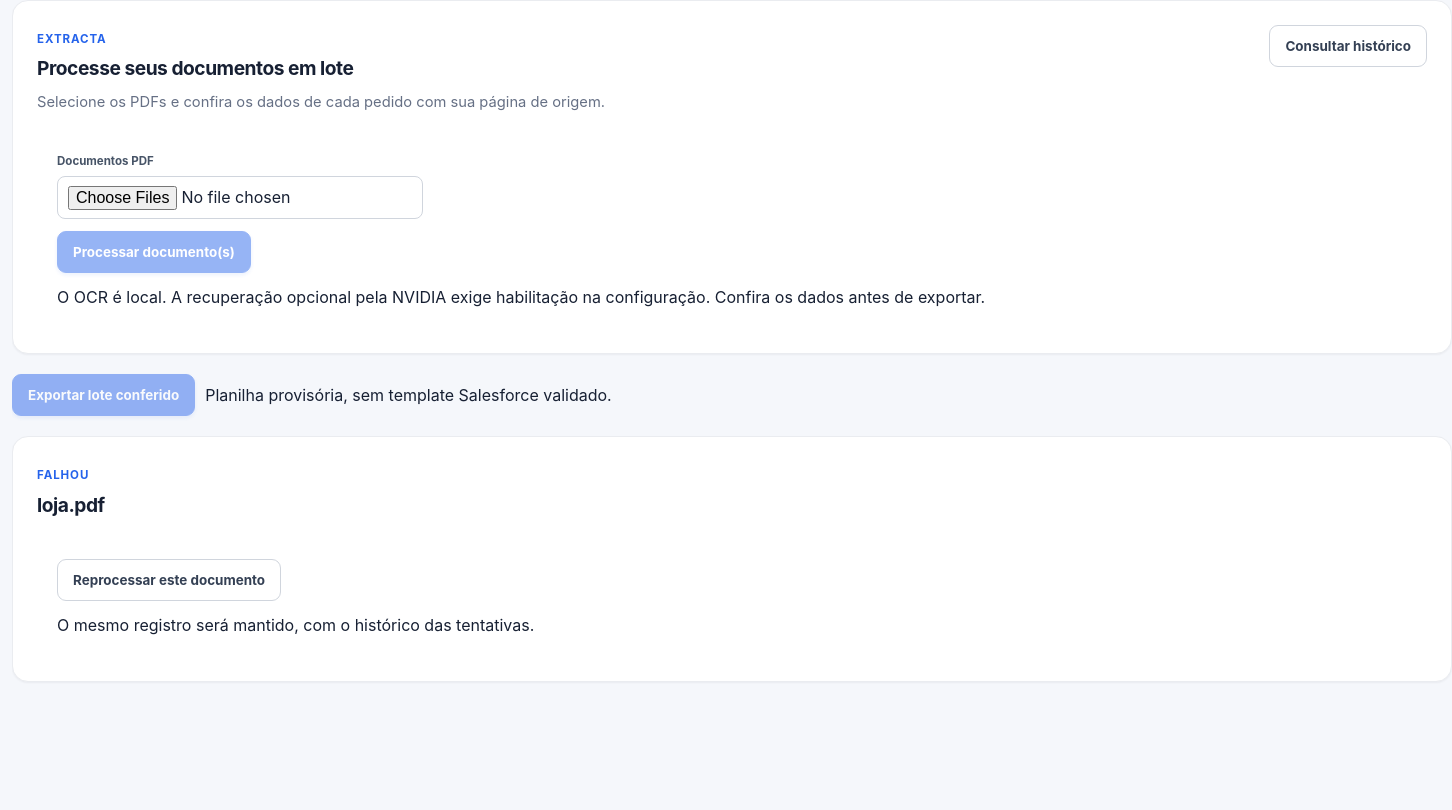
Extracta › reprocessa uma falha no mesmo documento e retoma a consulta do lote
Click the button "Reprocessar este documento" at (169, 580), box x1=57 y1=560 x2=281 y2=602
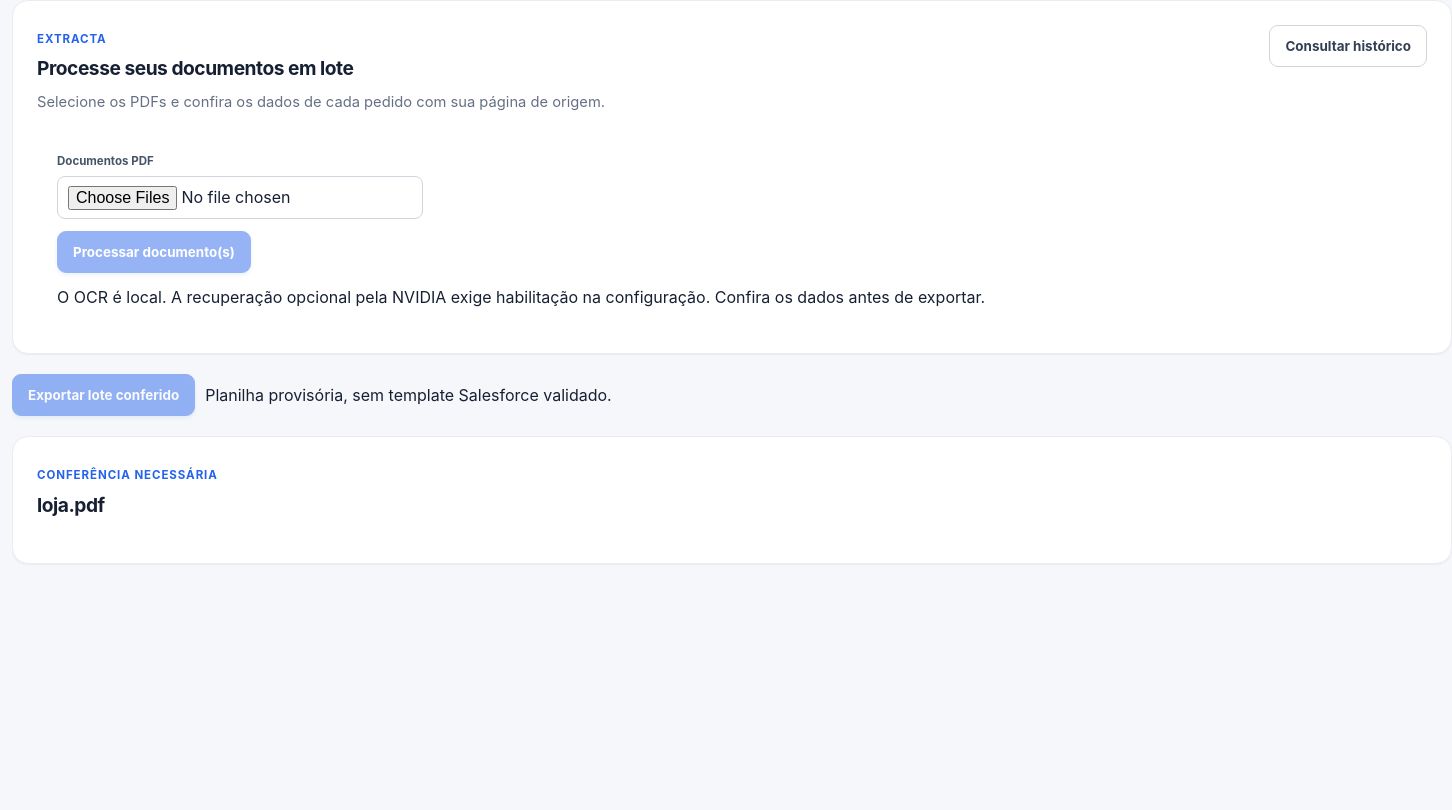
Expected: the text "Conferência necessária" is shown, x1=37 y1=467 x2=218 y2=485
